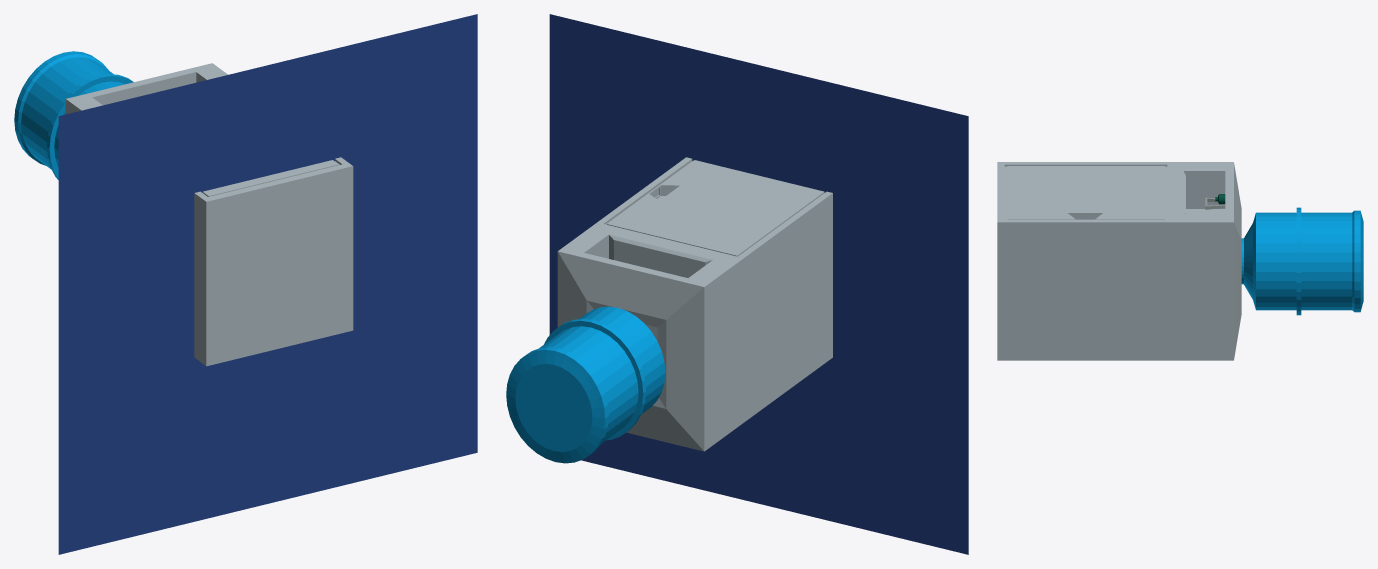
The model's file is UtilityRoom_WaterDrink.fbx.
3 renders of one model, left to right at view 1: azimuth 30°, elevation 25°; view 2: azimuth 150°, elevation 25°; view 3: azimuth 270°, elevation 25°, orthographic. The views are drawn at different scales.
Parts seen in each view (by area): view 1: Plane.002, WaterDrink; view 2: Plane.002, WaterDrink; view 3: WaterDrink.
Part boxes in pixels (left/top/right/bottom): Plane.002: left=58, top=14, right=477, bottom=554; WaterDrink: left=14, top=51, right=353, bottom=366; Plane.002: left=549, top=14, right=968, bottom=554; WaterDrink: left=506, top=157, right=832, bottom=463; WaterDrink: left=997, top=162, right=1363, bottom=360.
Bounding box in the file's own units: 2 × 2 × 1.8.
